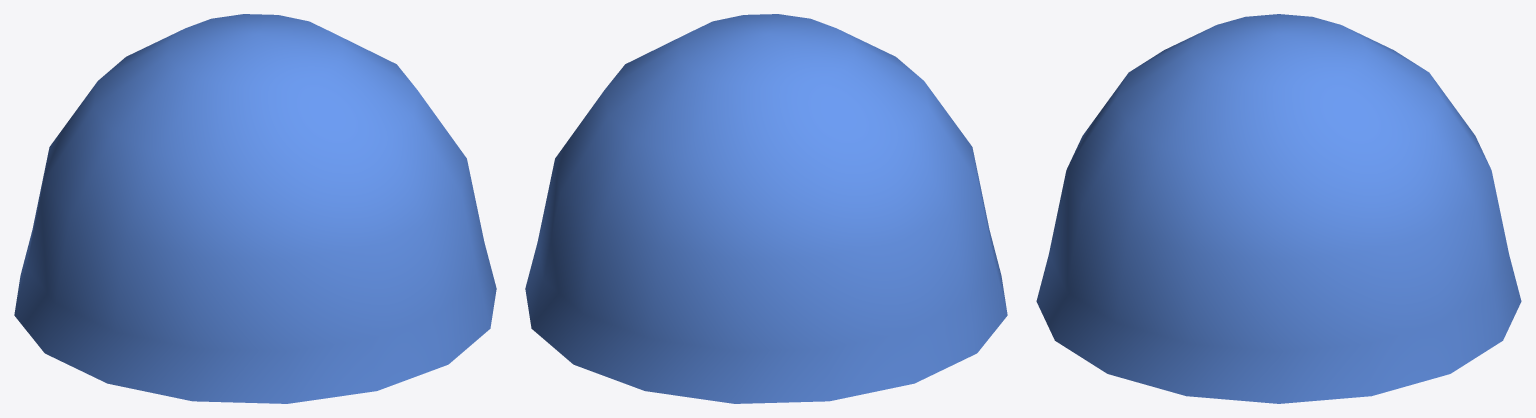
Rendered from original-11.obj.
The picture shows the model from 3 angles, left to right: view 1: azimuth 30°, elevation 25°; view 2: azimuth 150°, elevation 25°; view 3: azimuth 270°, elevation 25°; orthographic projection.
Parts seen in each view (by area): view 1: mesh11/mesh11-geometry#mesh11-geometry; view 2: mesh11/mesh11-geometry#mesh11-geometry; view 3: mesh11/mesh11-geometry#mesh11-geometry.
Part boxes in pixels (<box>): mesh11/mesh11-geometry#mesh11-geometry: <box>14,14,496,403</box>; mesh11/mesh11-geometry#mesh11-geometry: <box>525,14,1007,403</box>; mesh11/mesh11-geometry#mesh11-geometry: <box>1036,14,1521,403</box>.
Bounding box in the file's own units: 0.0682 × 0.0414 × 0.0682.
